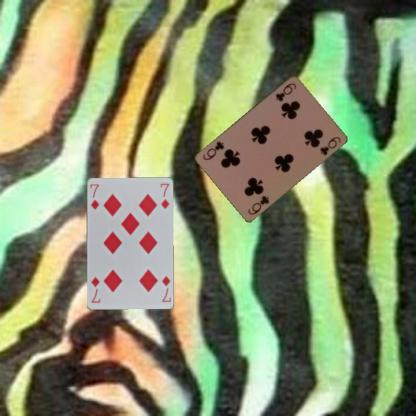6c: (273, 80, 298, 103), (246, 193, 270, 215)
7d: (87, 182, 100, 210), (160, 273, 172, 303)
